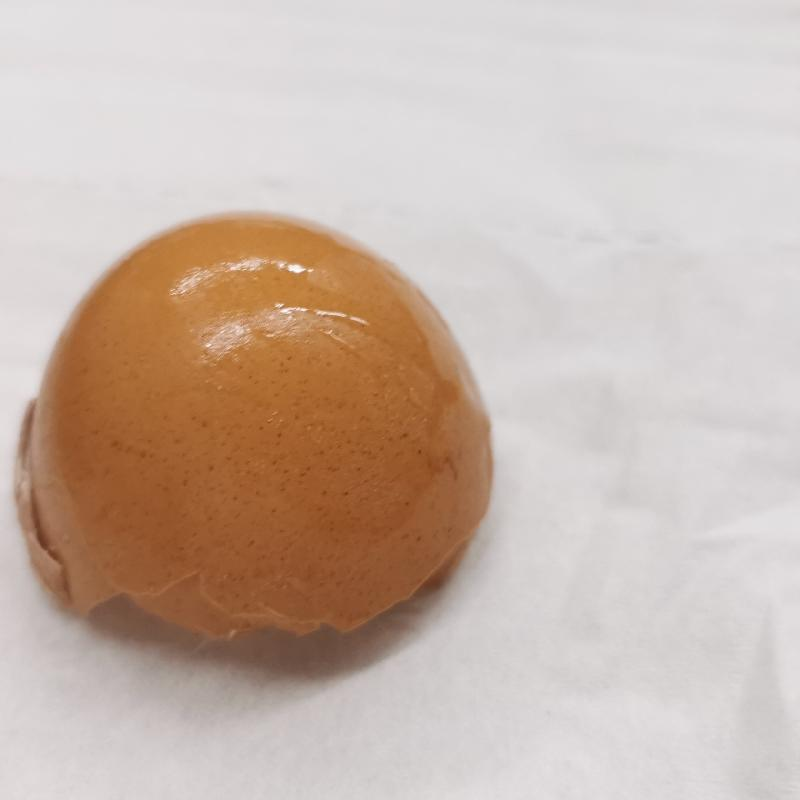eggshell: (11, 211, 498, 644)
